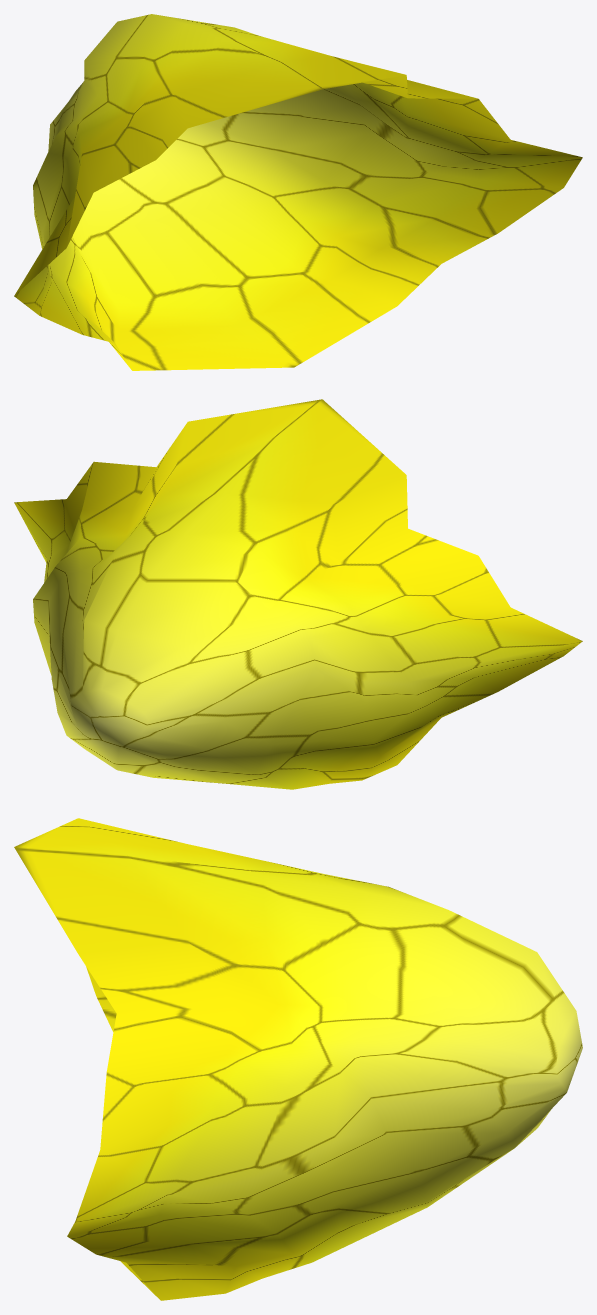
The model's file is ShieldCharge.fbx.
3 views of the same model, one above another, from view 1: azimuth 30°, elevation 25°; view 2: azimuth 150°, elevation 25°; view 3: azimuth 270°, elevation 25° (orthographic). The views are drawn at different scales.
Parts seen in each view (by area): view 1: Shield; view 2: Shield; view 3: Shield.
Boxes of the visible parts, x1,y1,x2,y2 form: Shield: [14, 14, 582, 370]; Shield: [14, 399, 582, 789]; Shield: [14, 818, 582, 1300].
Bounding box in the file's own units: 1612 × 809 × 1096.
